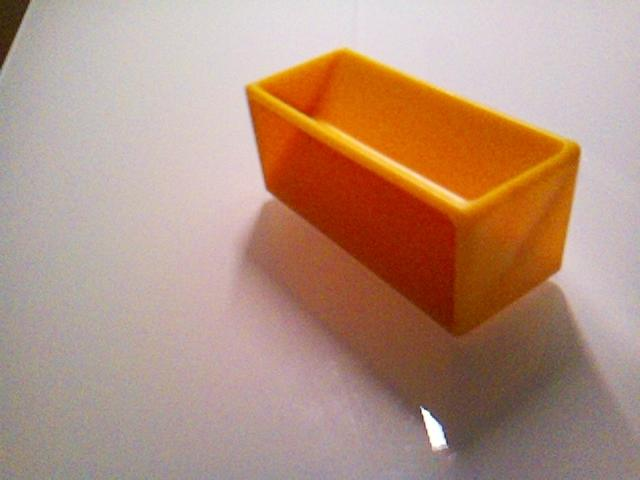yellow: (244, 46, 583, 338)
